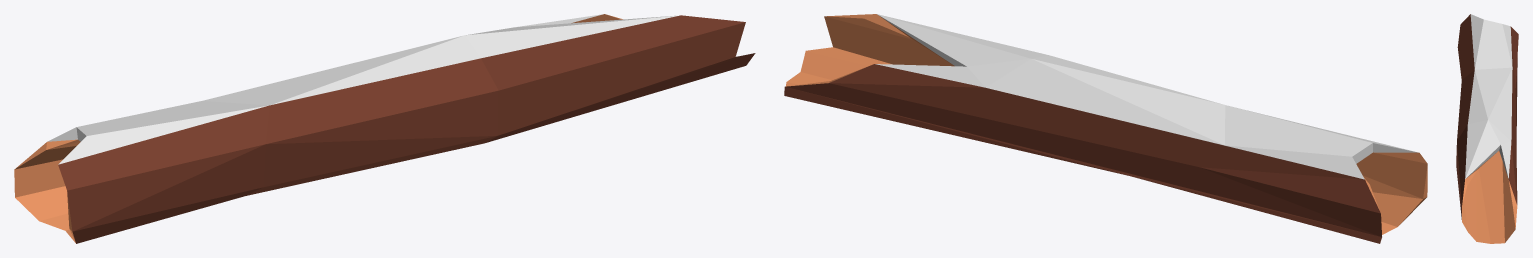
The model's file is pine_trunk_type_12_extra_LOD1.fbx.
3 views of the same model, side by side, from view 1: azimuth 30°, elevation 25°; view 2: azimuth 150°, elevation 25°; view 3: azimuth 270°, elevation 25° (orthographic). The views are drawn at different scales.
Parts seen in each view (by area): view 1: pt_type_12.001; view 2: pt_type_12.001; view 3: pt_type_12.001.
Part boxes in pixels (box(x1,y1,x2,y2)): pt_type_12.001: box(14, 14, 755, 243); pt_type_12.001: box(784, 14, 1427, 243); pt_type_12.001: box(1456, 14, 1518, 243).
Size of the model in its own units: 629 by 88.17 by 88.57.
